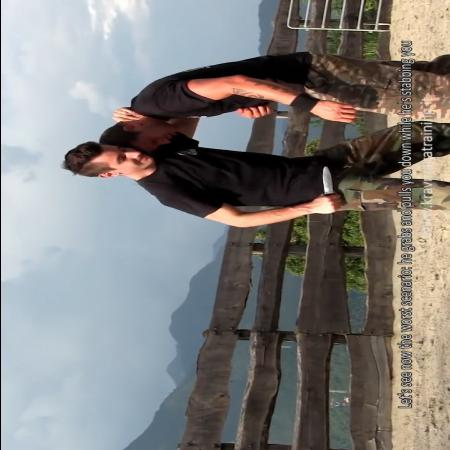long weapon: (313, 162, 350, 216)
